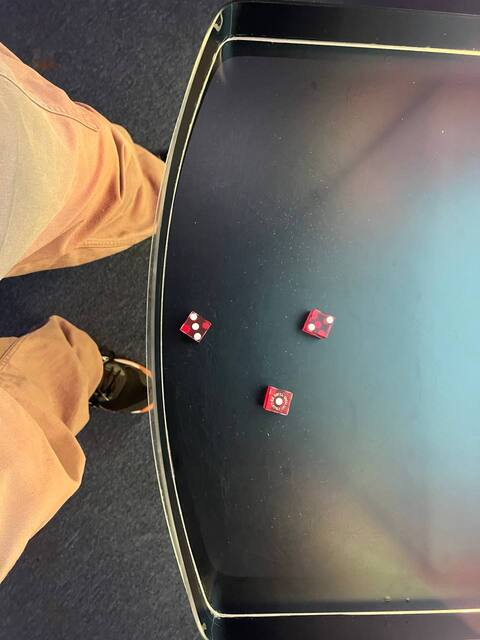one: (259, 384, 296, 419)
three: (178, 309, 216, 347)
two: (301, 307, 338, 344)
